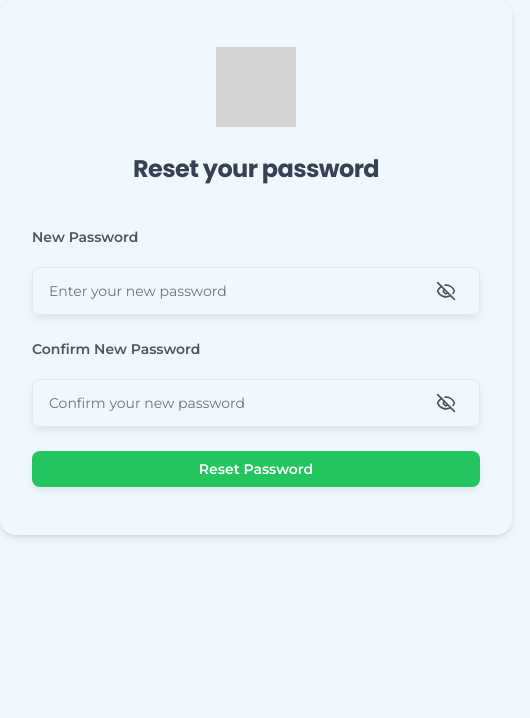
Test case: ResetPasswordForm with valid token › shows validation error when passwords don't match
Step 1. Type "NewPassword@123" into the password field labelled "New Password" → (256, 291), box [32,267,480,315]
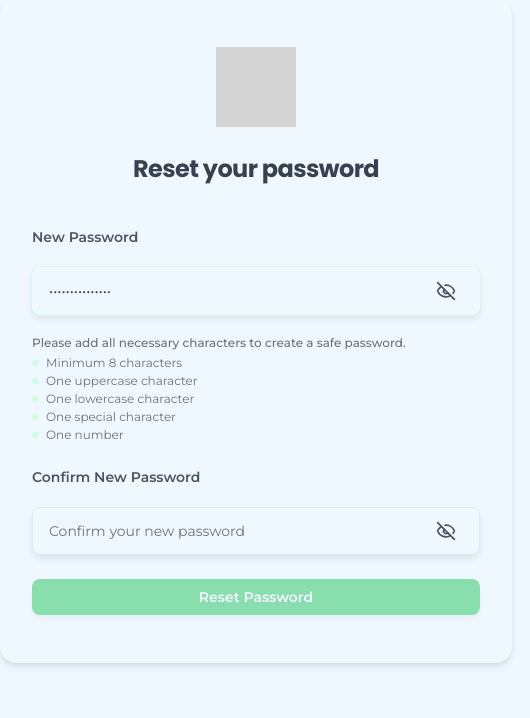
Step 2. Type "DifferentPassword@123" into the password field labelled "Confirm New Password" → (256, 531), box [32,507,480,555]
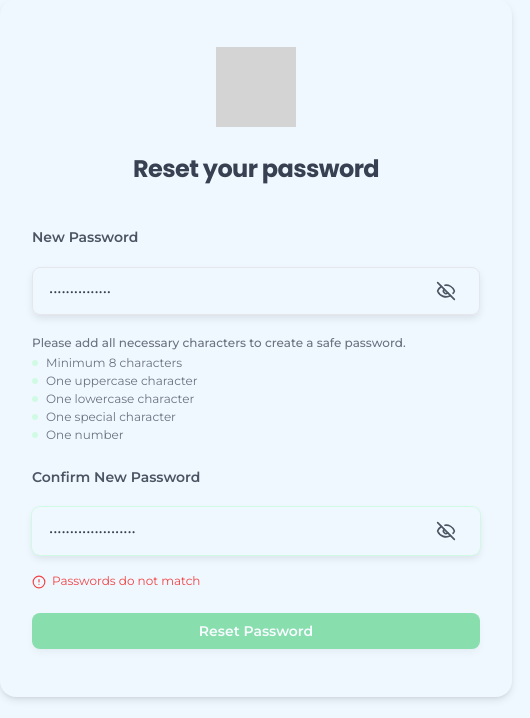
expect the text "Passwords do not match" is shown: met, box [52,573,200,589]
